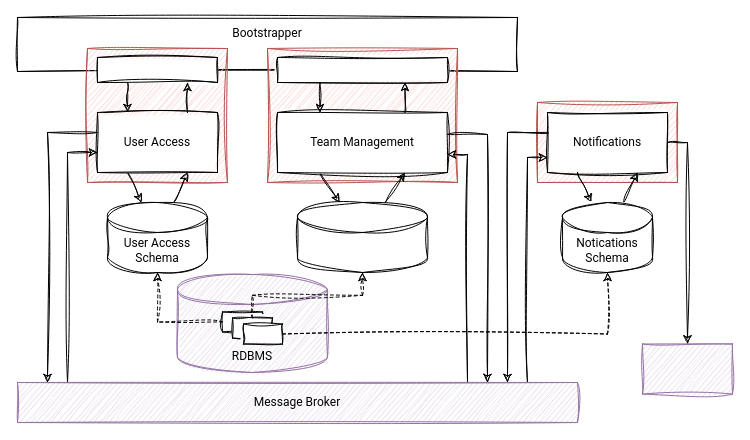
Some shapes in this 750 by 440 pixel diagram are drawn without their labels. The box of each missing label's shape, as (x1, y1, x2, y2) in pixels:
Email Service: (642, 343, 732, 394)
Team Management API: (276, 56, 448, 82)
Team Management Schema: (296, 202, 428, 272)
User Access API: (96, 56, 218, 82)
